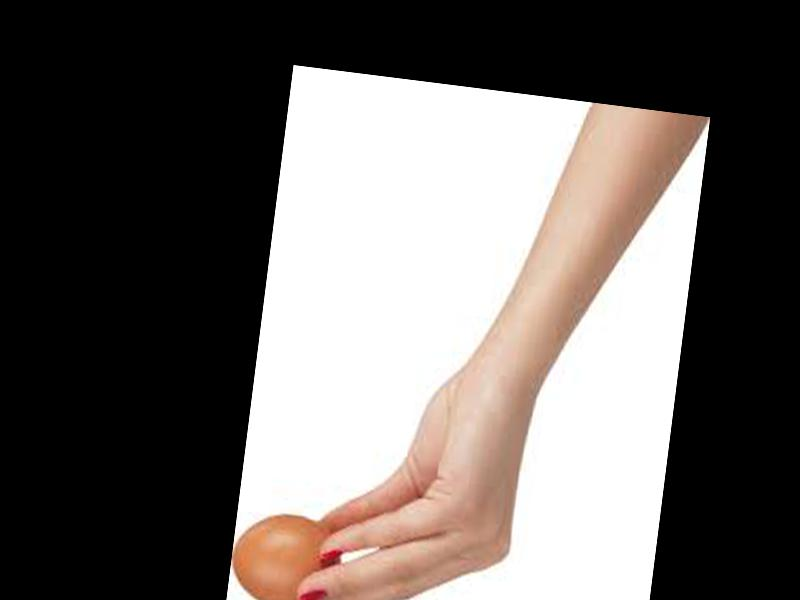Eggs: (228, 508, 342, 600)
